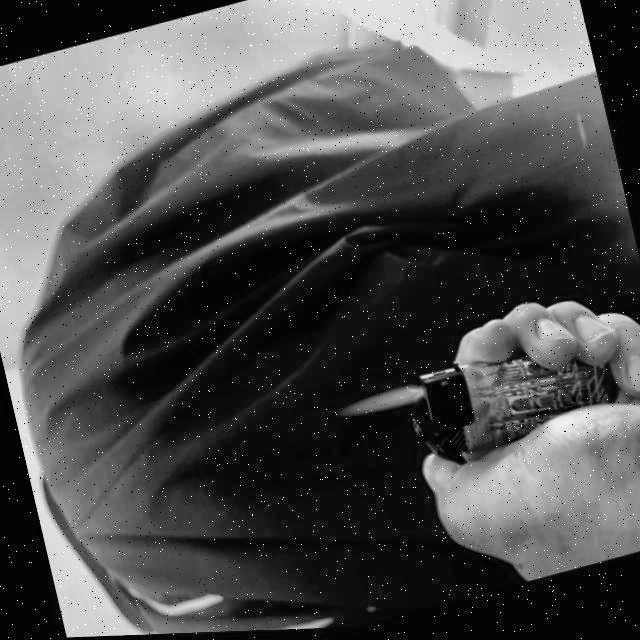Fire: (335, 385, 418, 428)
